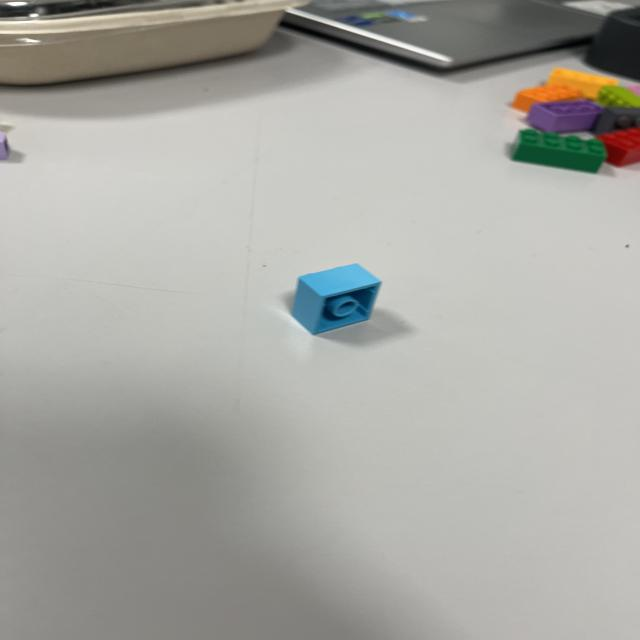C2x2x1: (290, 266, 383, 332)
